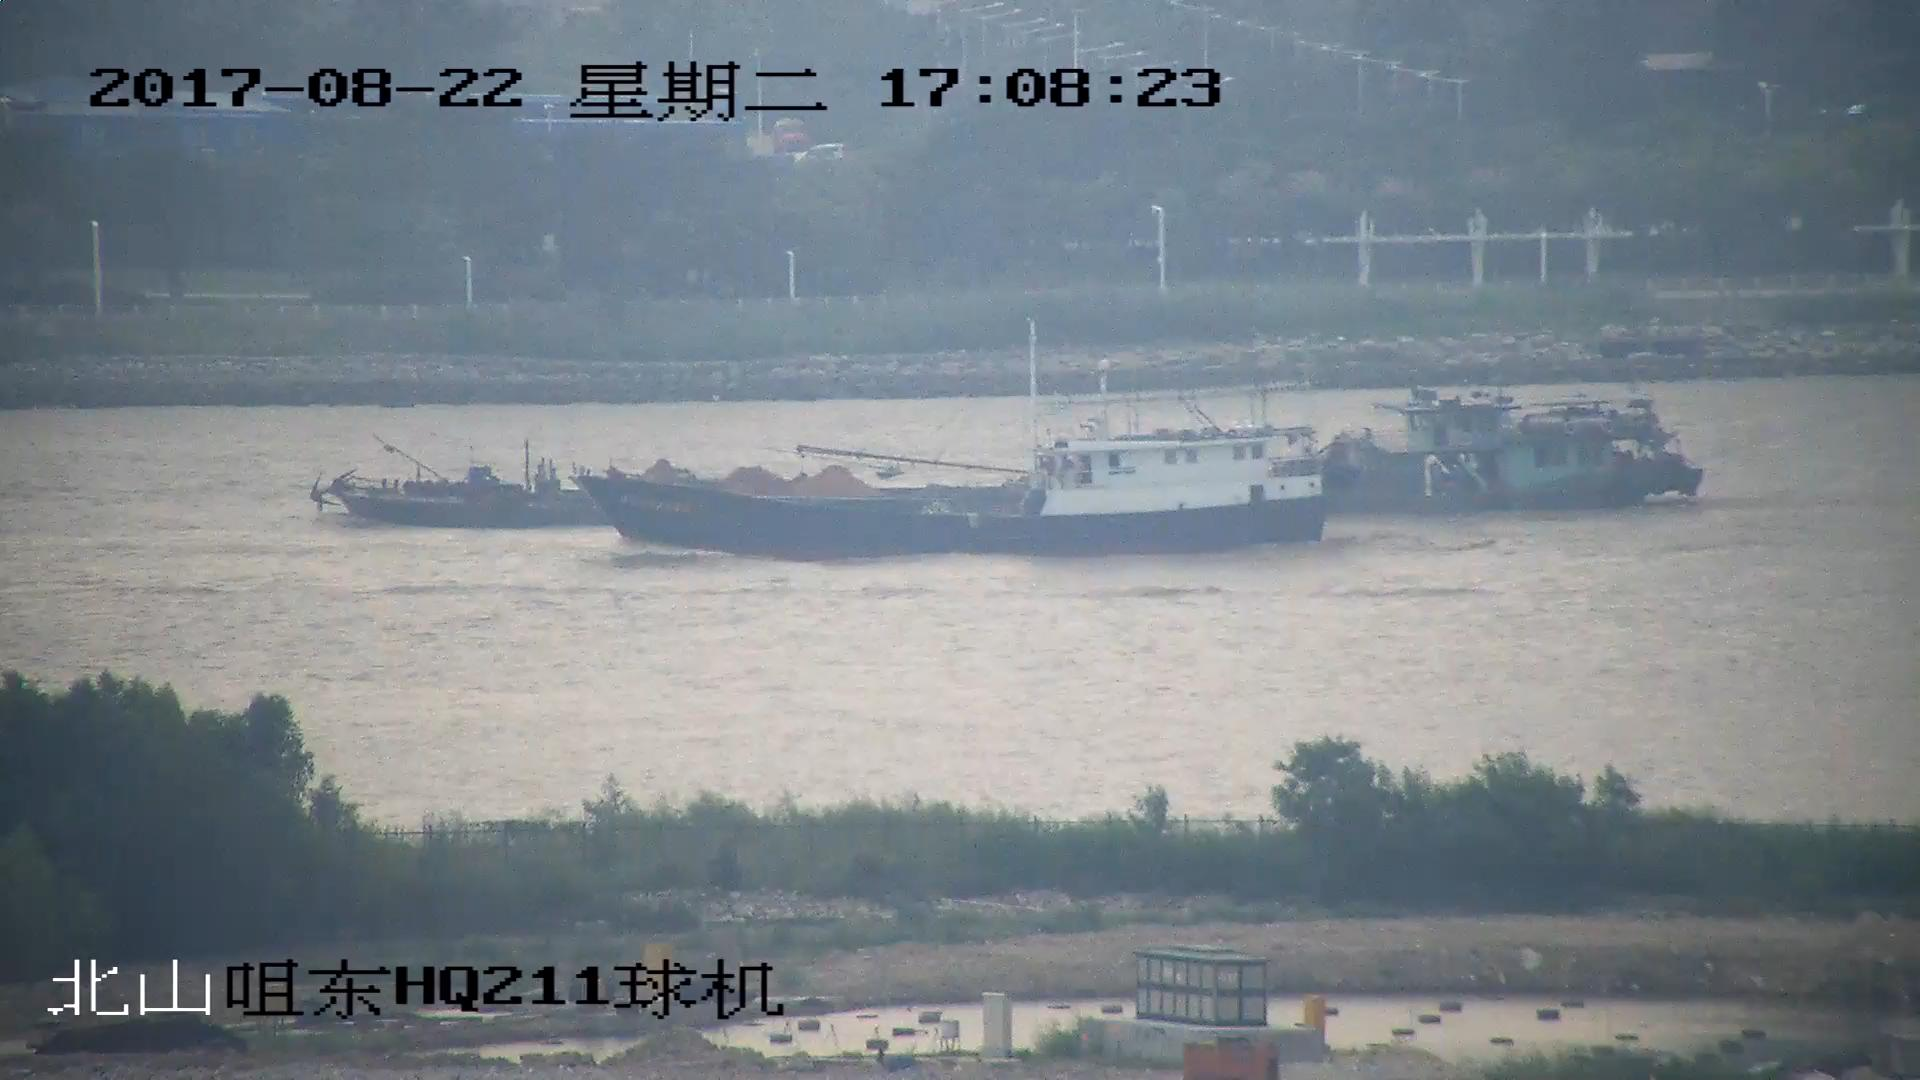fishing boat: (589, 363, 1325, 552)
ore carrier: (306, 384, 1701, 522)
